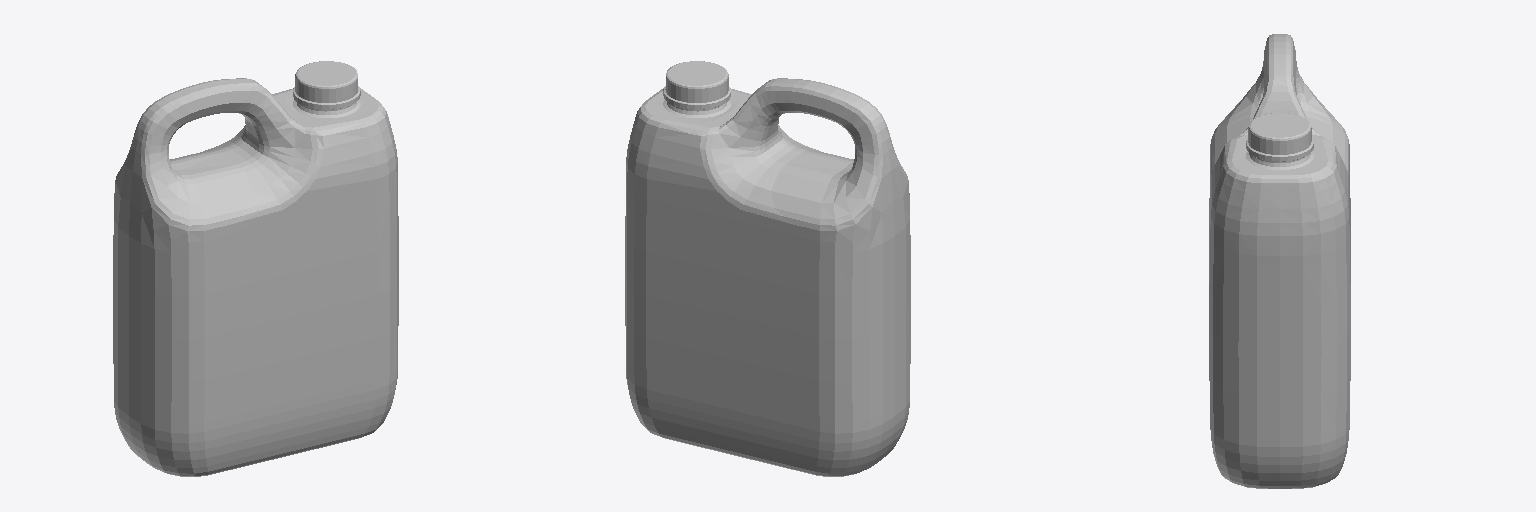
Rendered from mocheng.obj.
3 views of the same model, side by side, from view 1: azimuth 30°, elevation 25°; view 2: azimuth 150°, elevation 25°; view 3: azimuth 270°, elevation 25° (orthographic).
Visible parts, largest first — view 1: multi_cleaner_5_litre, multi_cleaner_5_litre_cap; view 2: multi_cleaner_5_litre, multi_cleaner_5_litre_cap; view 3: multi_cleaner_5_litre, multi_cleaner_5_litre_cap.
Part boxes in pixels (bbox=[...]): multi_cleaner_5_litre: bbox=[113, 78, 398, 476]; multi_cleaner_5_litre_cap: bbox=[293, 61, 360, 109]; multi_cleaner_5_litre: bbox=[625, 78, 910, 476]; multi_cleaner_5_litre_cap: bbox=[663, 61, 730, 109]; multi_cleaner_5_litre: bbox=[1209, 34, 1350, 488]; multi_cleaner_5_litre_cap: bbox=[1246, 113, 1313, 161].
Size of the model in its own units: 0.2193 by 0.3003 by 0.1058.